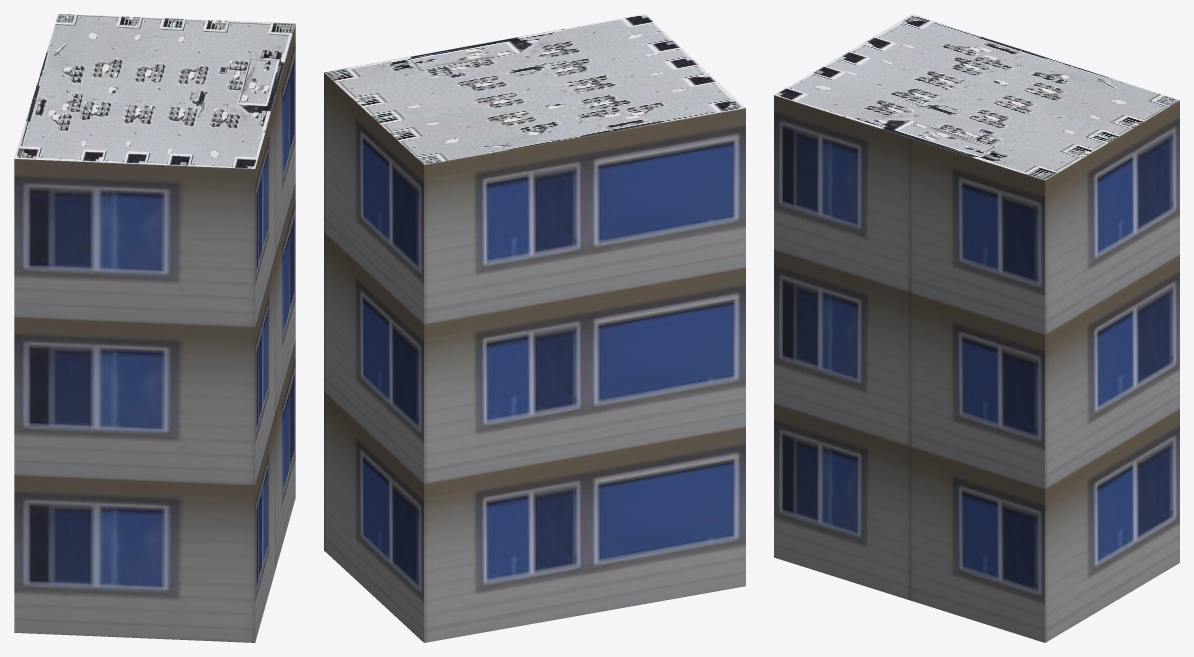
The model's file is ResTex__3917.fbx.
3 views of the same model, side by side, from view 1: azimuth 30°, elevation 25°; view 2: azimuth 150°, elevation 25°; view 3: azimuth 270°, elevation 25° (orthographic). The views are drawn at different scales.
Parts seen in each view (by area): view 1: CityEngineMaterial_23_m, CityEngineMaterial_4_m; view 2: CityEngineMaterial_23_m, CityEngineMaterial_4_m; view 3: CityEngineMaterial_23_m, CityEngineMaterial_4_m.
Boxes of the visible parts, <box> form: CityEngineMaterial_23_m: <box>14,25,295,642</box>; CityEngineMaterial_4_m: <box>14,14,295,168</box>; CityEngineMaterial_23_m: <box>324,72,745,642</box>; CityEngineMaterial_4_m: <box>324,14,745,164</box>; CityEngineMaterial_23_m: <box>774,95,1179,642</box>; CityEngineMaterial_4_m: <box>774,14,1179,180</box>.
Size of the model in its own units: 6.95 by 9 by 7.16.
2 materials, 2 textured.
